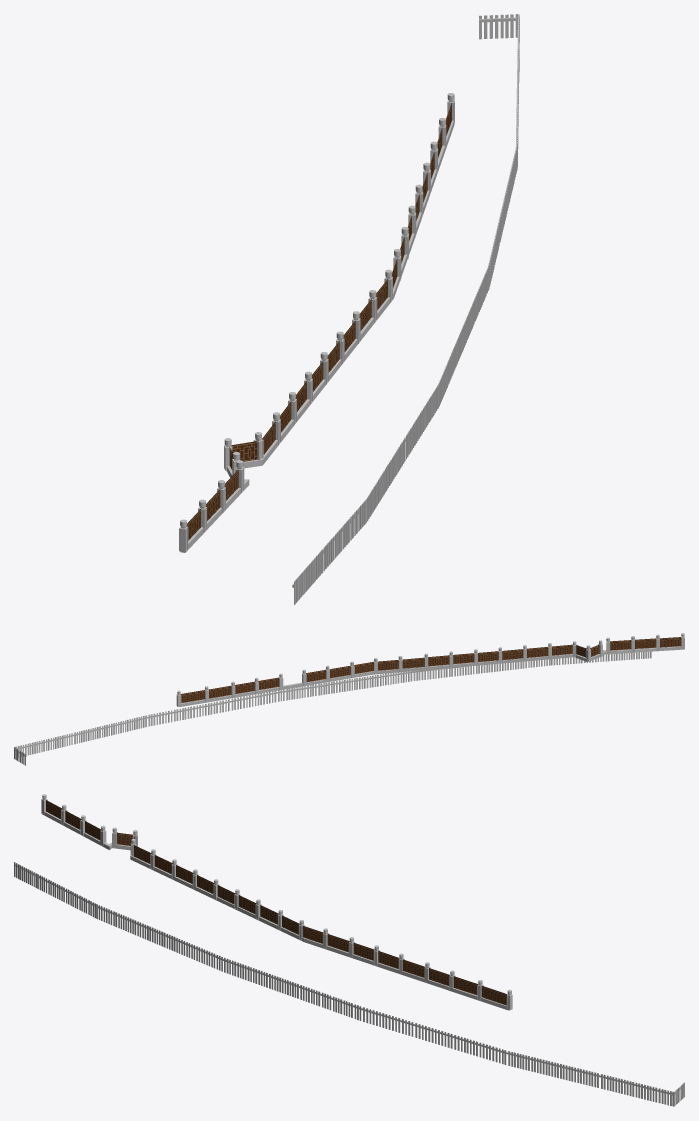
The model's file is gzl_270_muweilan.FBX.
3 renders of one model, top to bottom at view 1: azimuth 30°, elevation 25°; view 2: azimuth 150°, elevation 25°; view 3: azimuth 270°, elevation 25°, orthographic. The views are drawn at different scales.
Visible parts, largest first — view 1: gzl_270_muwen_02, gzl_270_muwen_01, gzl_270_toutie; view 2: gzl_270_muwen_02, gzl_270_toutie, gzl_270_muwen_01; view 3: gzl_270_muwen_02, gzl_270_toutie, gzl_270_muwen_01.
Boxes of the visible parts, x1,y1,x2,y2 form: gzl_270_muwen_02: (292, 14, 519, 604); gzl_270_muwen_01: (179, 93, 454, 552); gzl_270_toutie: (186, 103, 451, 540); gzl_270_muwen_02: (14, 650, 651, 765); gzl_270_toutie: (180, 637, 681, 702); gzl_270_muwen_01: (176, 633, 684, 706); gzl_270_muwen_02: (14, 862, 684, 1106); gzl_270_toutie: (46, 800, 507, 1005); gzl_270_muwen_01: (41, 794, 512, 1010).
Size of the model in its own units: 52853 by 5250 by 58094.
